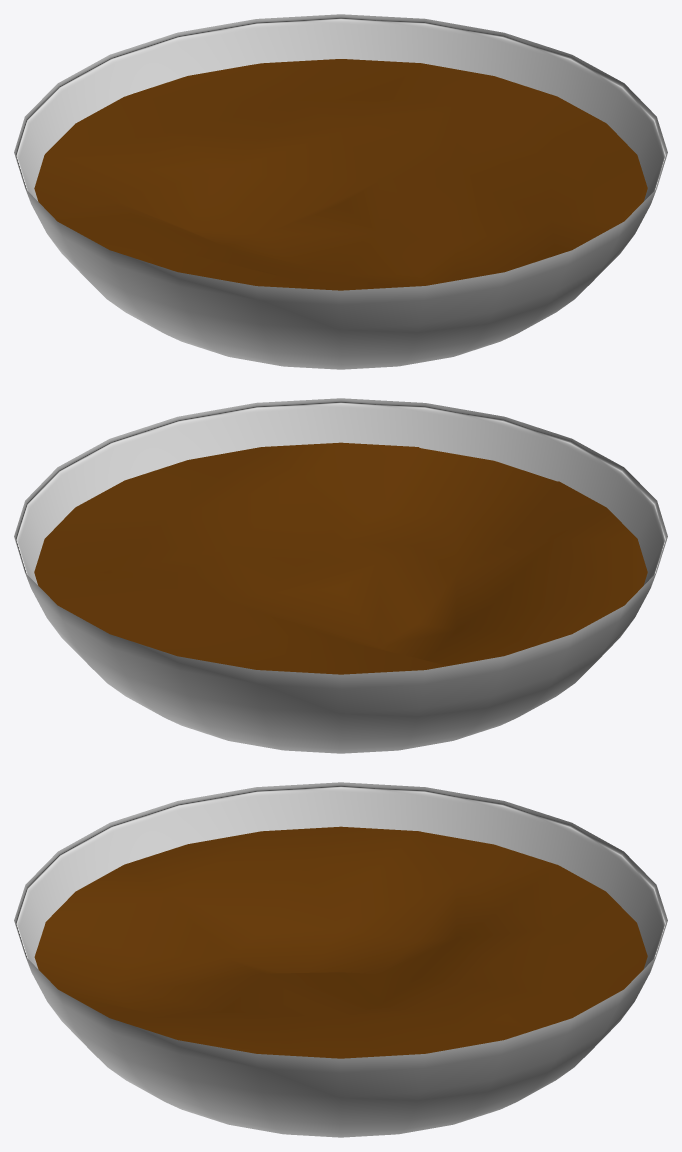
Rendered from chocolate_sauce.fbx.
3 renders of one model, top to bottom at view 1: azimuth 30°, elevation 25°; view 2: azimuth 150°, elevation 25°; view 3: azimuth 270°, elevation 25°, orthographic.
Parts seen in each view (by area): view 1: pDisc1, nurbsToPoly1; view 2: pDisc1, nurbsToPoly1; view 3: pDisc1, nurbsToPoly1.
Boxes of the visible parts, <box> form: pDisc1: <box>34,59,647,290</box>; nurbsToPoly1: <box>14,14,667,369</box>; pDisc1: <box>34,442,647,674</box>; nurbsToPoly1: <box>14,398,667,753</box>; pDisc1: <box>34,826,647,1058</box>; nurbsToPoly1: <box>14,782,667,1137</box>.
Size of the model in its own units: 22.22 by 5.43 by 22.22.
